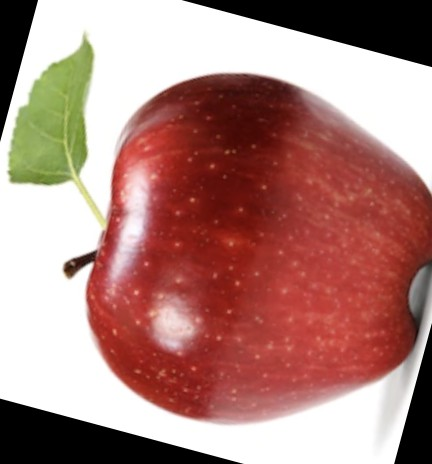fresh_apple: (85, 74, 432, 424)
